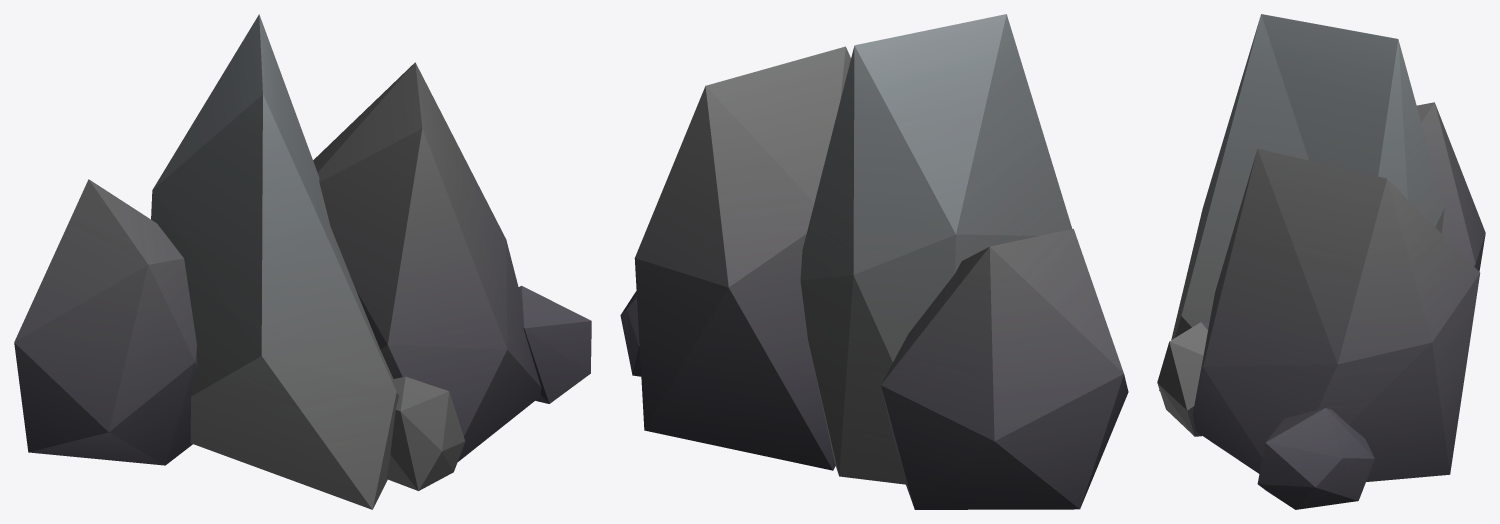
The model's file is Gradient_Rock_06.glb.
3 views of the same model, side by side, from view 1: azimuth 30°, elevation 25°; view 2: azimuth 150°, elevation 25°; view 3: azimuth 270°, elevation 25° (orthographic). The views are drawn at different scales.
Parts seen in each view (by area): view 1: Rock 06 g; view 2: Rock 06 g; view 3: Rock 06 g.
Part boxes in pixels (x1=…): Rock 06 g: x1=14, y1=14, x2=591, y2=509; Rock 06 g: x1=620, y1=14, x2=1128, y2=509; Rock 06 g: x1=1157, y1=14, x2=1485, y2=509.
Bounding box in the file's own units: 4.67 × 3.5 × 2.78.
Materials: 1 (1 with a texture image).
